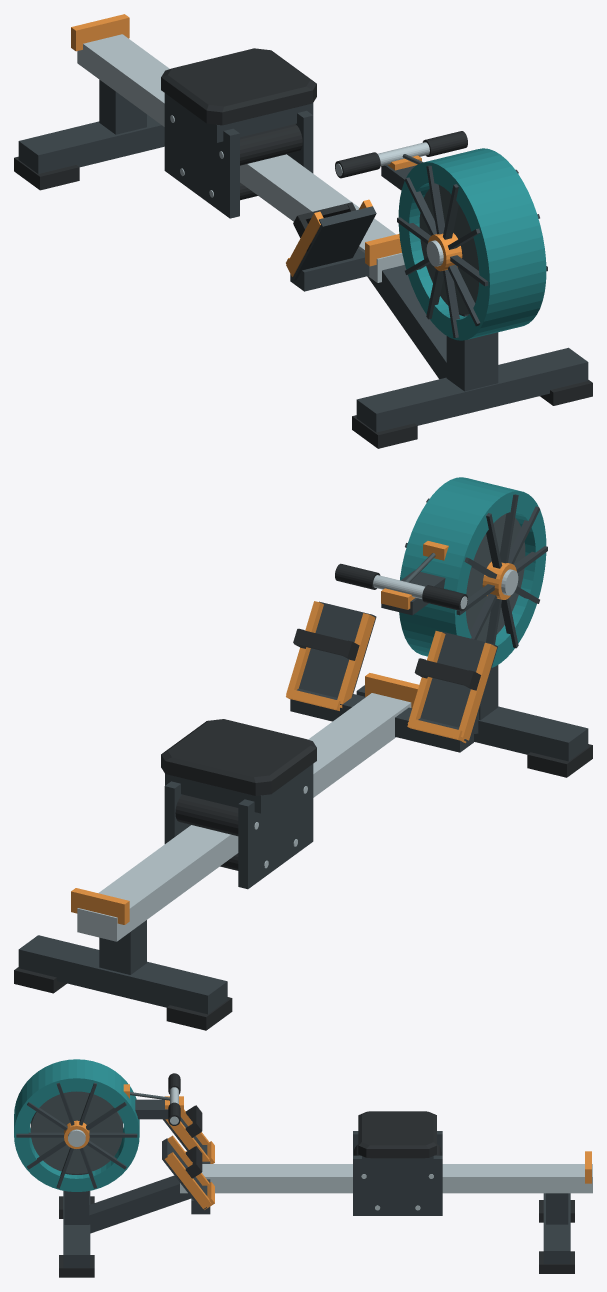
3 renders of one model, top to bottom at view 1: azimuth 30°, elevation 25°; view 2: azimuth 150°, elevation 25°; view 3: azimuth 270°, elevation 25°, orthographic. The views are drawn at different scales.
Visible parts, largest first — view 1: Resistance_ThickAnnularCover, Rail_Main, Frame_FloorBar_Front, Seat_ChamferedPad, Slider_Cheek_Left, Frame_FloorBar_Rear, Frame_FrontDiagonal, FootTray_Left, Frame_FanStanchion, Resistance_InternalWheel, Slider_SeatBridge, Slider_Roller_TopFront (+16 smaller); view 2: Rail_Main, Resistance_ThickAnnularCover, Seat_ChamferedPad, Frame_FloorBar_Rear, Slider_Cheek_Left, Frame_FloorBar_Front, FootTray_Left, FootTray_Right, Feet_SupportCrossbar, Resistance_InternalWheel, Slider_SeatBridge, Slider_Roller_TopRear (+17 smaller); view 3: Rail_Main, Resistance_ThickAnnularCover, Slider_Cheek_Right, Resistance_InternalWheel, Seat_ChamferedPad, Frame_FrontDiagonal, Frame_FloorBar_Rear, Frame_FloorBar_Front, Frame_FanStanchion, Slider_SeatBridge, Frame_RearPost, FootTray_Rim_Right_Outer (+8 smaller).
Part boxes in pixels (bbox=[...]): Resistance_ThickAnnularCover: bbox=[398, 148, 546, 340]; Rail_Main: bbox=[77, 34, 404, 282]; Frame_FloorBar_Front: bbox=[356, 347, 588, 432]; Seat_ChamferedPad: bbox=[161, 48, 316, 125]; Slider_Cheek_Left: bbox=[164, 93, 239, 218]; Frame_FloorBar_Rear: bbox=[18, 114, 164, 173]; Frame_FrontDiagonal: bbox=[367, 265, 446, 379]; FootTray_Left: bbox=[292, 206, 376, 280]; Frame_FanStanchion: bbox=[446, 313, 498, 391]; Resistance_InternalWheel: bbox=[419, 185, 478, 314]; Slider_SeatBridge: bbox=[165, 93, 313, 142]; Slider_Roller_TopFront: bbox=[240, 124, 302, 165]; Rail_Main: bbox=[77, 693, 411, 941]; Resistance_ThickAnnularCover: bbox=[399, 477, 546, 667]; Seat_ChamferedPad: bbox=[161, 719, 316, 795]; Frame_FloorBar_Rear: bbox=[18, 935, 227, 1014]; Slider_Cheek_Left: bbox=[238, 775, 313, 889]; Frame_FloorBar_Front: bbox=[356, 685, 588, 761]; FootTray_Left: bbox=[420, 631, 497, 742]; FootTray_Right: bbox=[299, 601, 376, 697]; Feet_SupportCrossbar: bbox=[290, 688, 473, 752]; Resistance_InternalWheel: bbox=[466, 514, 525, 642]; Slider_SeatBridge: bbox=[165, 764, 313, 813]; Slider_Roller_TopRear: bbox=[175, 794, 238, 836]; Rail_Main: bbox=[180, 1164, 592, 1193]; Resistance_ThickAnnularCover: bbox=[14, 1059, 139, 1191]; Slider_Cheek_Right: bbox=[353, 1155, 442, 1215]; Resistance_InternalWheel: bbox=[30, 1091, 122, 1173]; Seat_ChamferedPad: bbox=[358, 1111, 436, 1158]; Frame_FrontDiagonal: bbox=[89, 1175, 191, 1233]; Frame_FloorBar_Rear: bbox=[543, 1193, 570, 1263]; Frame_FloorBar_Front: bbox=[63, 1190, 90, 1267]; Frame_FanStanchion: bbox=[64, 1172, 89, 1224]; Slider_SeatBridge: bbox=[362, 1156, 433, 1168]; Frame_RearPost: bbox=[546, 1193, 568, 1224]; FootTray_Rim_Right_Outer: bbox=[164, 1152, 211, 1208].
Size of the model in its own units: 0.76 by 0.85 by 2.58.
